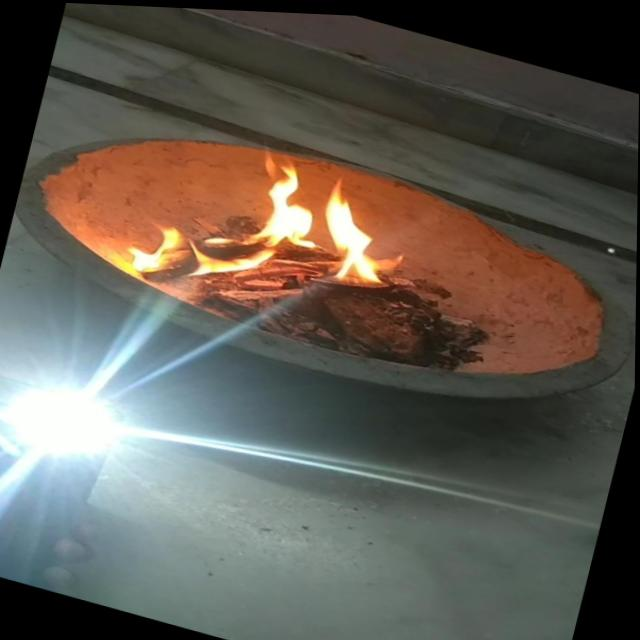fire: (120, 204, 282, 303), (302, 169, 408, 303), (249, 147, 333, 255)
